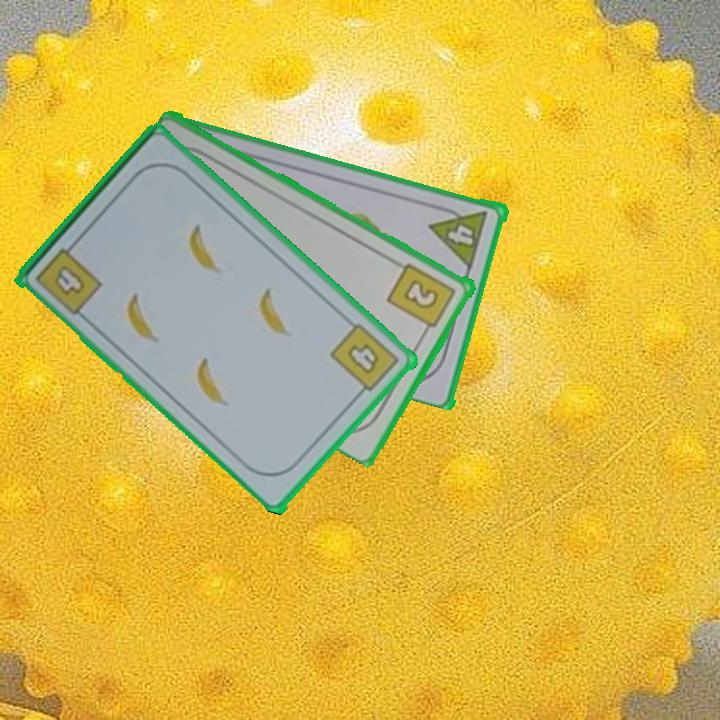2b: (384, 259, 460, 338)
4b: (327, 319, 403, 401), (32, 237, 106, 318)
4p: (427, 220, 480, 269)
